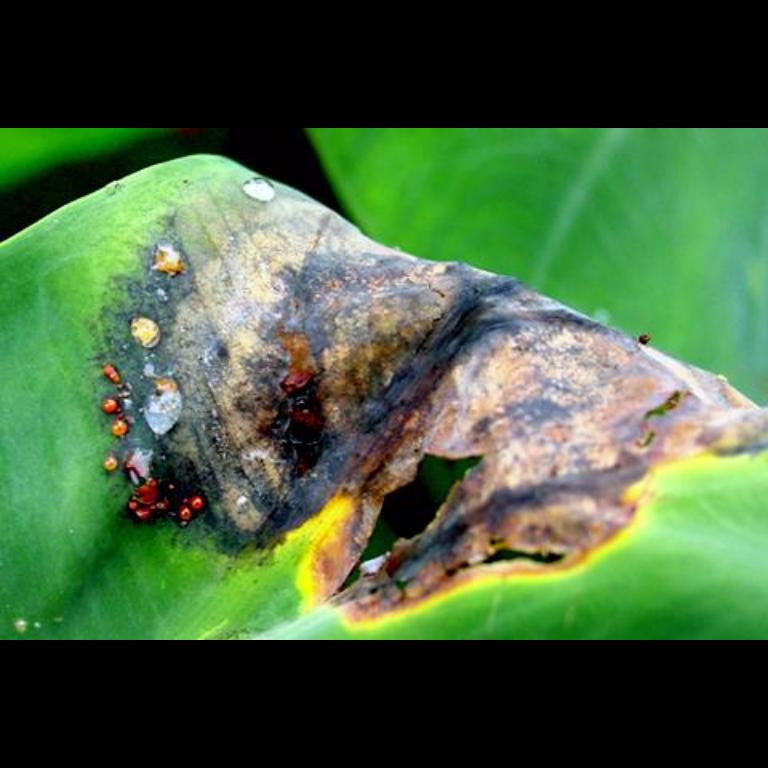blight: (210, 204, 728, 640)
